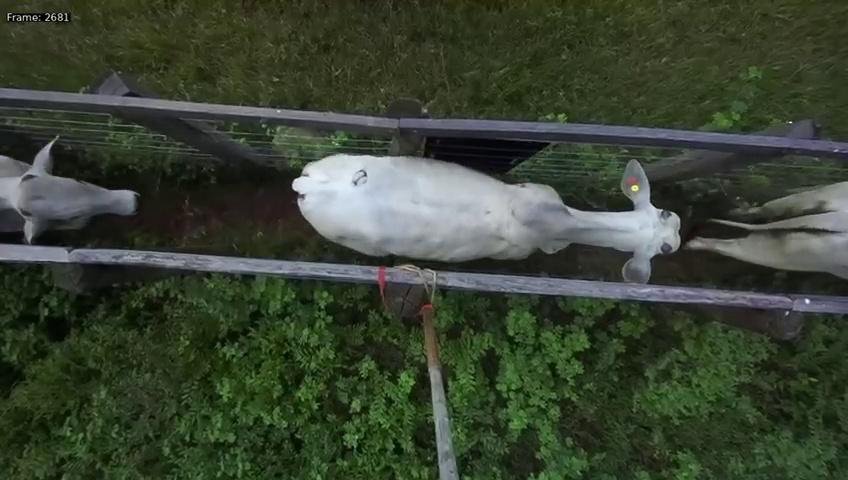cattle: (287, 138, 687, 291)
